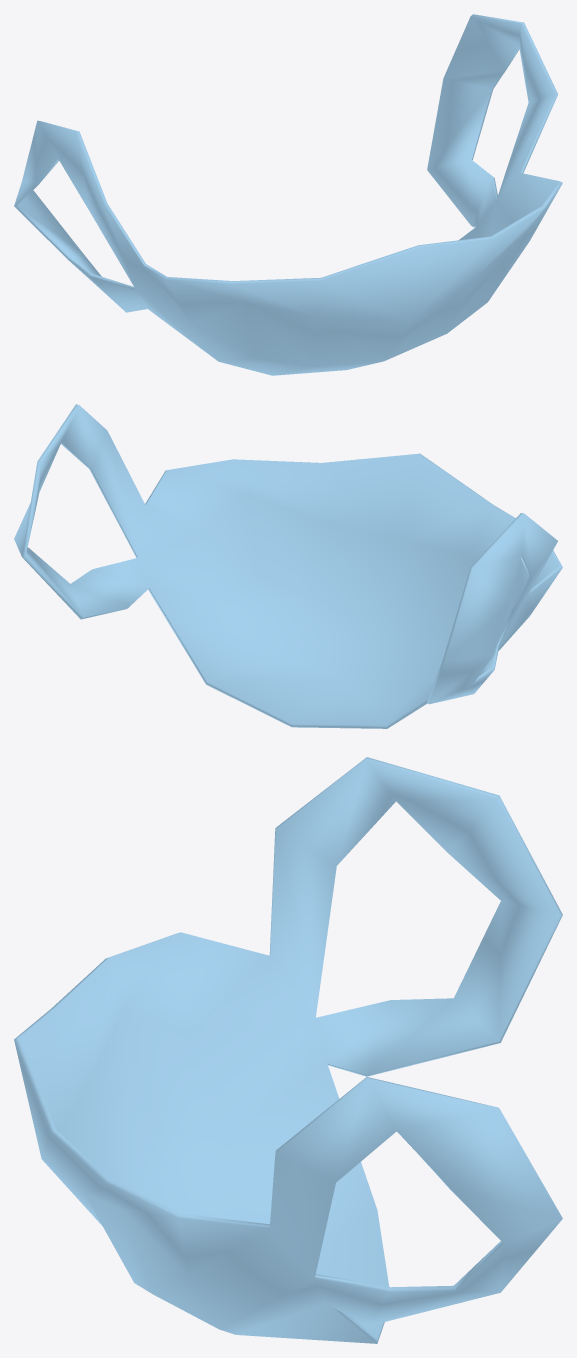
The model's file is accessory-facemask.glb.
3 renders of one model, top to bottom at view 1: azimuth 30°, elevation 25°; view 2: azimuth 150°, elevation 25°; view 3: azimuth 270°, elevation 25°, orthographic. The views are drawn at different scales.
Parts seen in each view (by area): view 1: accessory__headmesh_001__0; view 2: accessory__headmesh_001__0; view 3: accessory__headmesh_001__0.
Part boxes in pixels (x1,y1,x2,y2): accessory__headmesh_001__0: (14,14,562,375); accessory__headmesh_001__0: (14,404,562,728); accessory__headmesh_001__0: (14,757,562,1343).
Bounding box in the file's own units: 0.6527 × 0.3418 × 0.4401.
